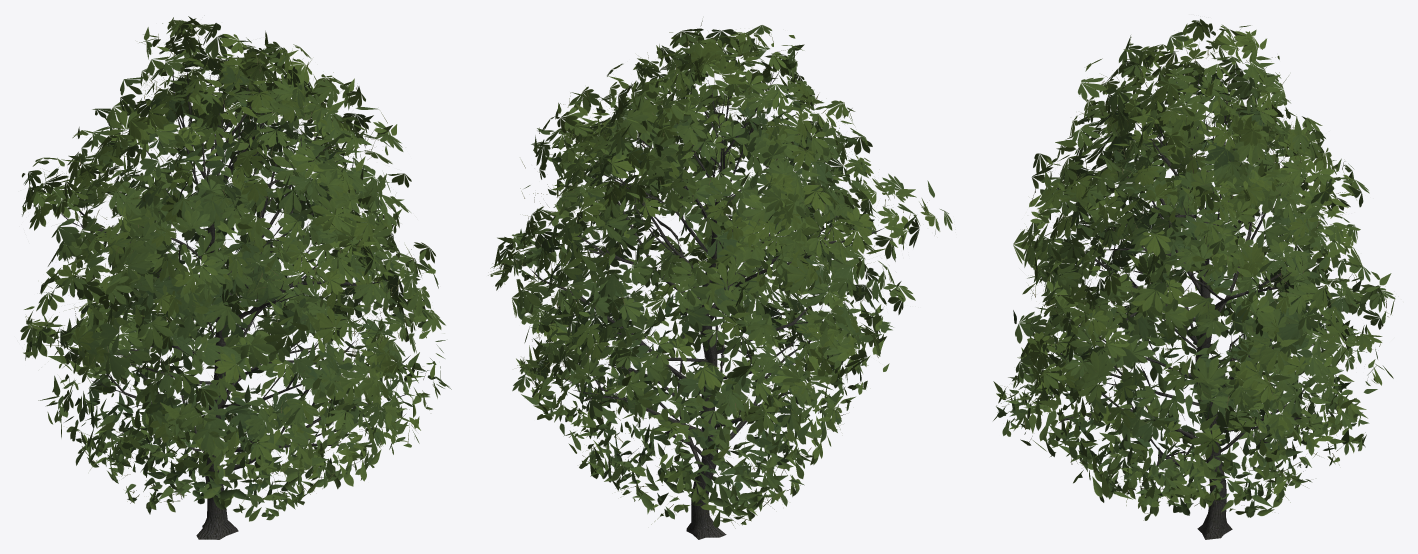
Rendered from tree_deciduous_far.glb.
The picture shows the model from 3 angles, left to right: view 1: azimuth 30°, elevation 25°; view 2: azimuth 150°, elevation 25°; view 3: azimuth 270°, elevation 25°; orthographic projection. The views are drawn at different scales.
Visible parts, largest first — view 1: mx_tree_deciduous, mx_tree_deciduous.001; view 2: mx_tree_deciduous, mx_tree_deciduous.001; view 3: mx_tree_deciduous, mx_tree_deciduous.001.
Part boxes in pixels (x1=…): mx_tree_deciduous: x1=20, y1=16, x2=451, y2=521; mx_tree_deciduous.001: x1=38, y1=66, x2=405, y2=539; mx_tree_deciduous: x1=488, y1=20, x2=952, y2=528; mx_tree_deciduous.001: x1=530, y1=65, x2=883, y2=539; mx_tree_deciduous: x1=993, y1=19, x2=1395, y2=520; mx_tree_deciduous.001: x1=1056, y1=73, x2=1336, y2=539.
Size of the model in its own units: 27.09 by 32.8 by 24.74.
2 materials, 2 textured.
